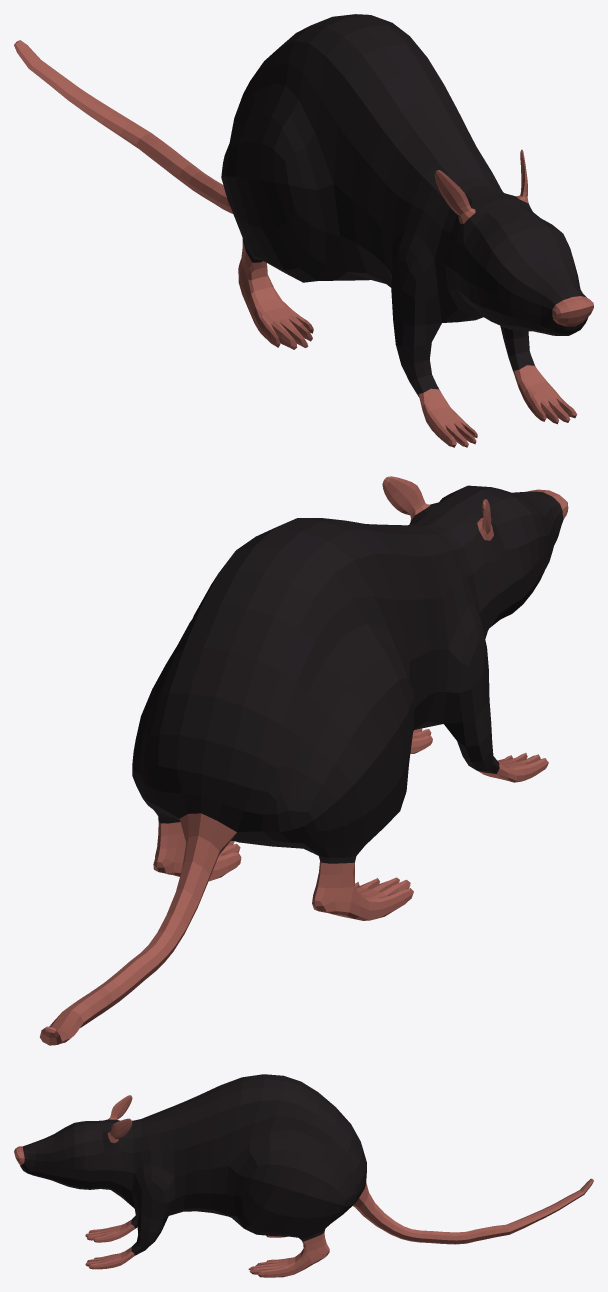
Rendered from Rat.obj.
The picture shows the model from 3 angles, top to bottom: view 1: azimuth 30°, elevation 25°; view 2: azimuth 150°, elevation 25°; view 3: azimuth 270°, elevation 25°; orthographic projection. The views are drawn at different scales.
Visible parts, largest first — view 1: Rat_Cylinder; view 2: Rat_Cylinder; view 3: Rat_Cylinder.
Boxes of the visible parts, box(x1,y1,x2,y2) form: Rat_Cylinder: box(14, 14, 593, 447); Rat_Cylinder: box(40, 476, 568, 1045); Rat_Cylinder: box(14, 1074, 593, 1277).
Bounding box in the file's own units: 1.51 × 2.24 × 6.81.
